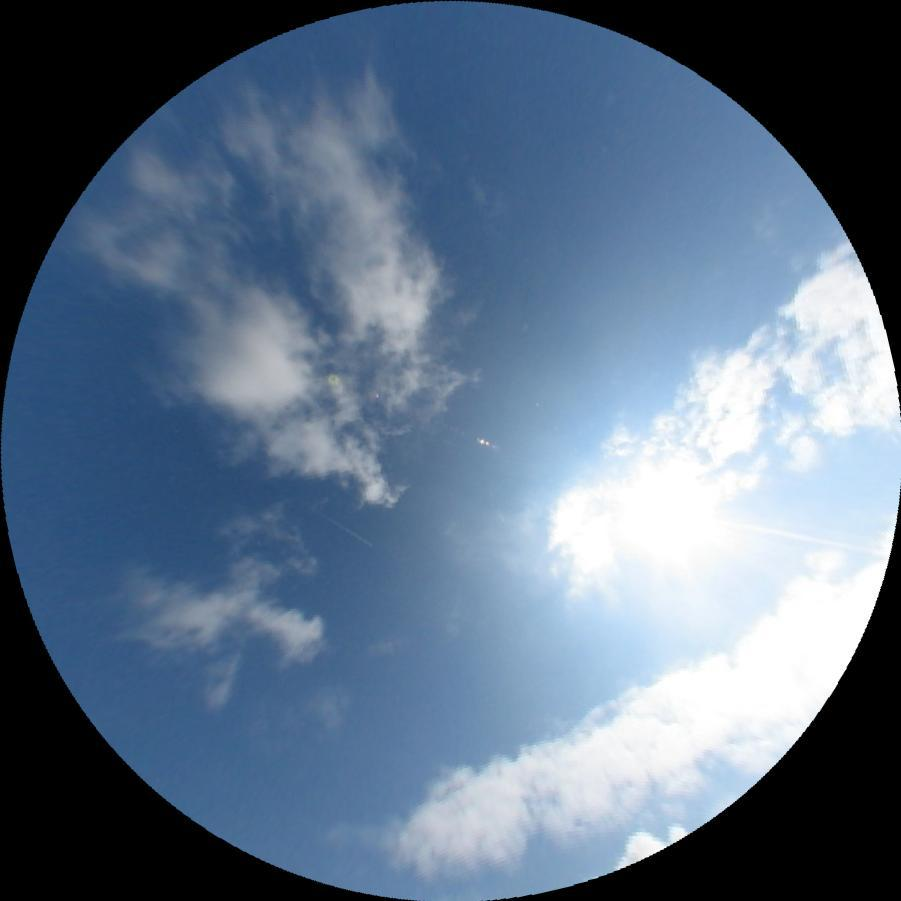contrail young: (278, 483, 375, 549)
parasite: (708, 512, 889, 559)
sun: (605, 480, 715, 563)
